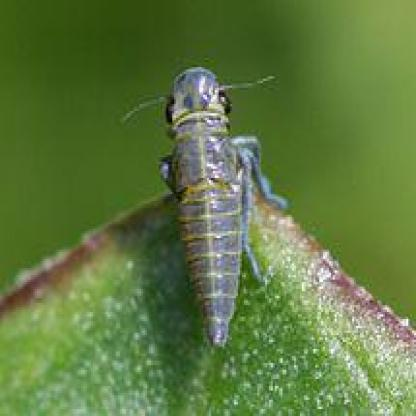Green-Leafhopper: (136, 67, 292, 354)
